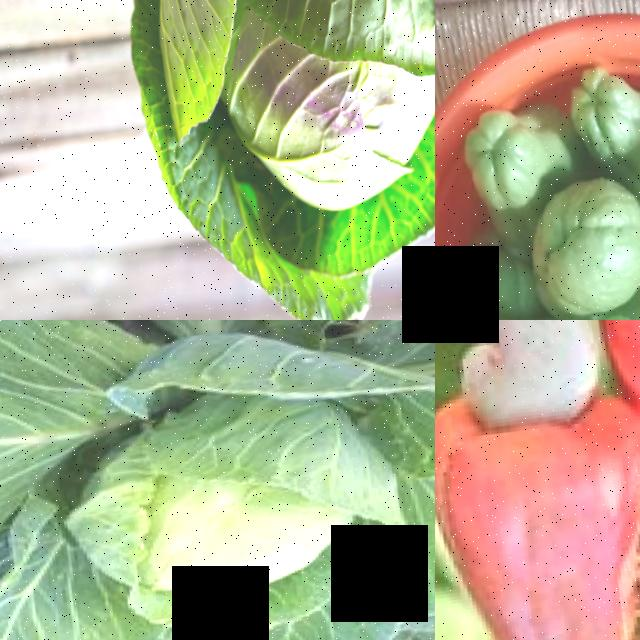cabbage: (0, 320, 435, 640), (51, 0, 435, 320)
cashew: (448, 320, 611, 443)
chayote: (511, 182, 640, 305), (550, 45, 640, 185), (457, 101, 568, 205)
